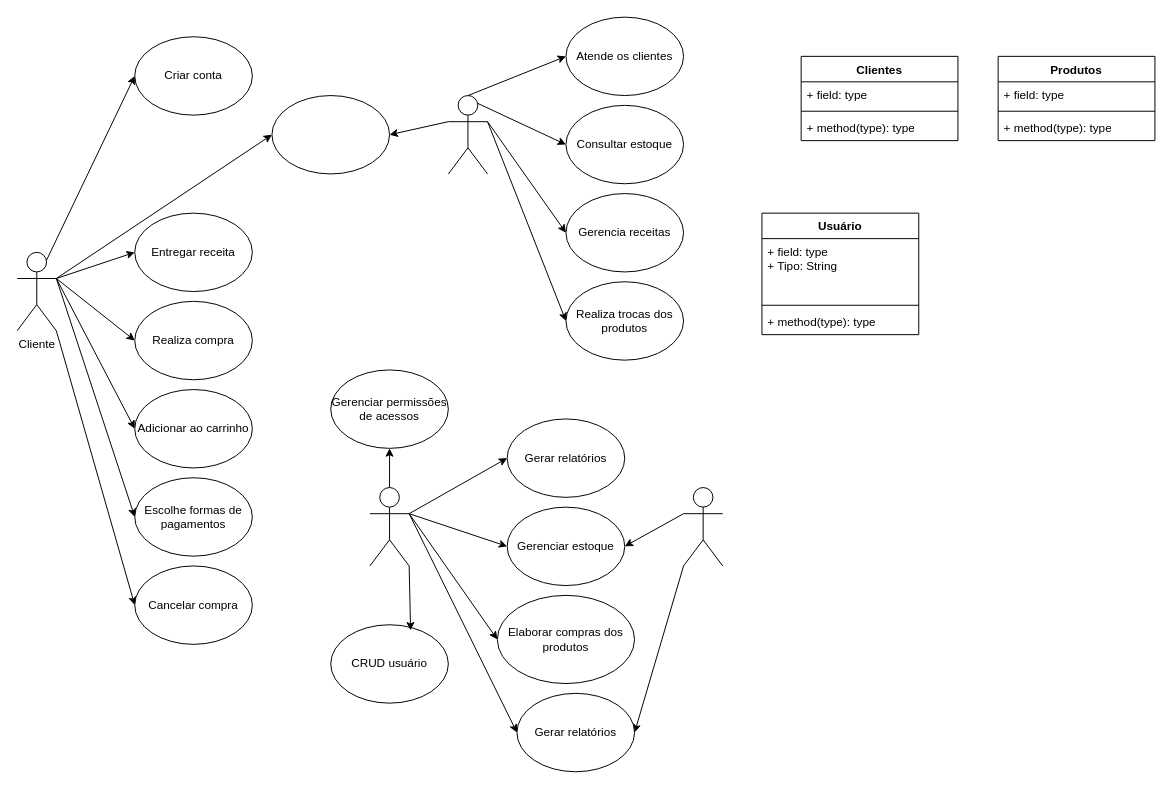
This 1172x789 diagram has some shape labels left out. Each missing label, with the centre of its shape:
"ADM" belongs at (x=389, y=526).
"Atendente" belongs at (x=467, y=134).
"Consultar produtos" belongs at (x=330, y=134).
"Gerente" belongs at (x=703, y=526).
